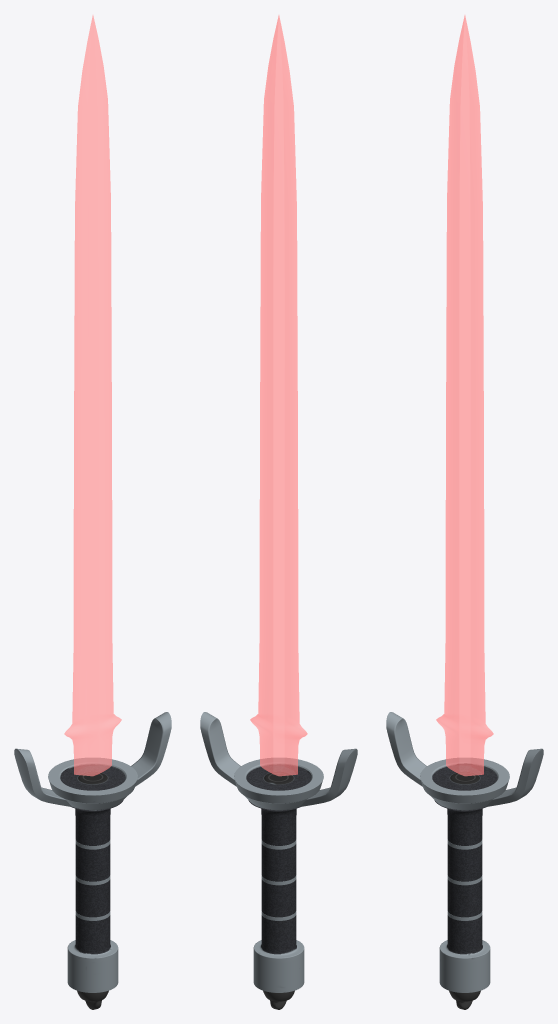
3 views of the same model, side by side, from view 1: azimuth 30°, elevation 25°; view 2: azimuth 150°, elevation 25°; view 3: azimuth 330°, elevation 25° (orthographic).
Parts seen in each view (by area): view 1: Blade, Grip, Hand_Guard; view 2: Blade, Grip, Hand_Guard; view 3: Blade, Grip, Hand_Guard.
Boxes of the visible parts, box(x1,y1,x2,y2) form: Blade: box(64, 15, 121, 776); Grip: box(48, 758, 137, 992); Hand_Guard: box(14, 712, 171, 806); Blade: box(250, 15, 307, 776); Grip: box(234, 758, 323, 992); Hand_Guard: box(200, 712, 357, 806); Blade: box(436, 15, 493, 776); Grip: box(420, 758, 509, 992); Hand_Guard: box(386, 712, 543, 806).
Size of the model in its own units: 11.59 by 72.89 by 5.97.
4 materials, 4 textured.
